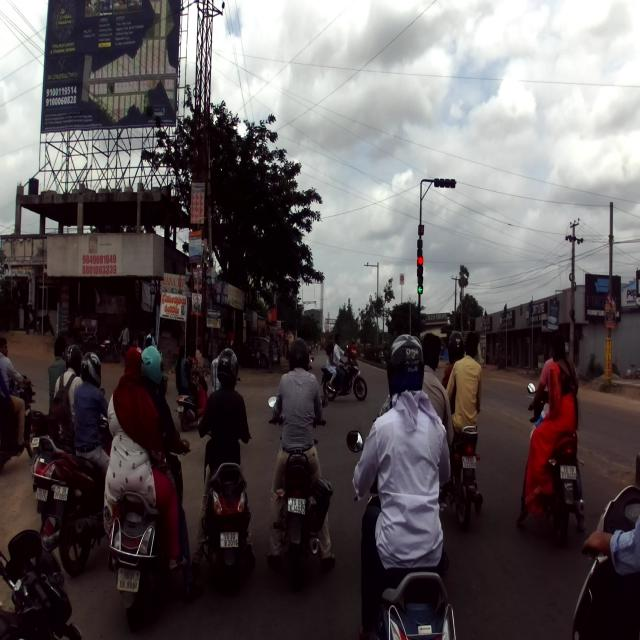motorcycle_Hero: (267, 395, 334, 594), (527, 382, 585, 544), (437, 410, 483, 529)
motorcycle_Honda: (50, 418, 114, 577)
scooter: (347, 426, 457, 640), (104, 426, 191, 629), (197, 420, 253, 594), (30, 434, 75, 529)
